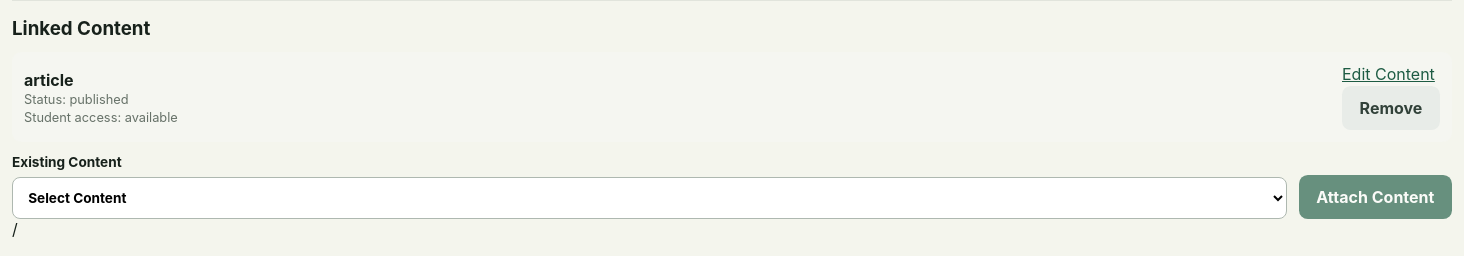
Scenario: Activity Content management › displays only safe linked Content reference fields
The image size is (1464, 256).
Expected: the text "article" is shown, [24, 70, 74, 90]
Expected: the text "Status: published" is shown, [24, 92, 128, 107]
Click the link "Edit Content" at [1391, 74], box [1342, 64, 1440, 84]
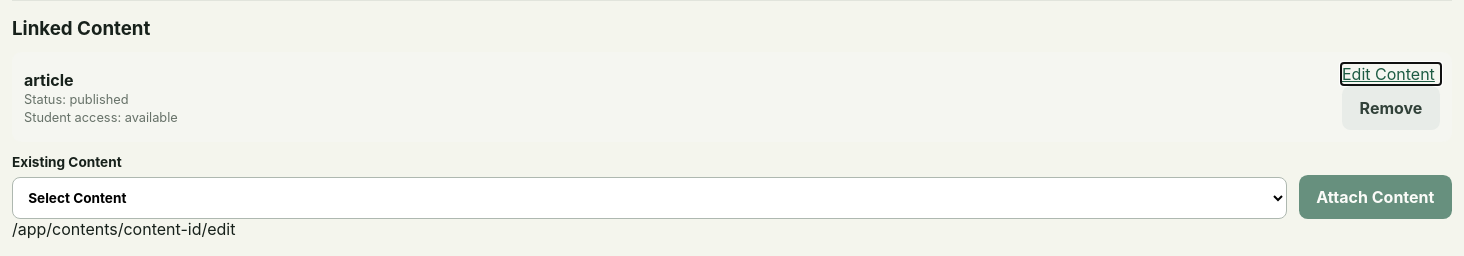
Result: the text named "Current route" reads "/app/contents/content-id/edit" at [12, 219, 236, 239]
